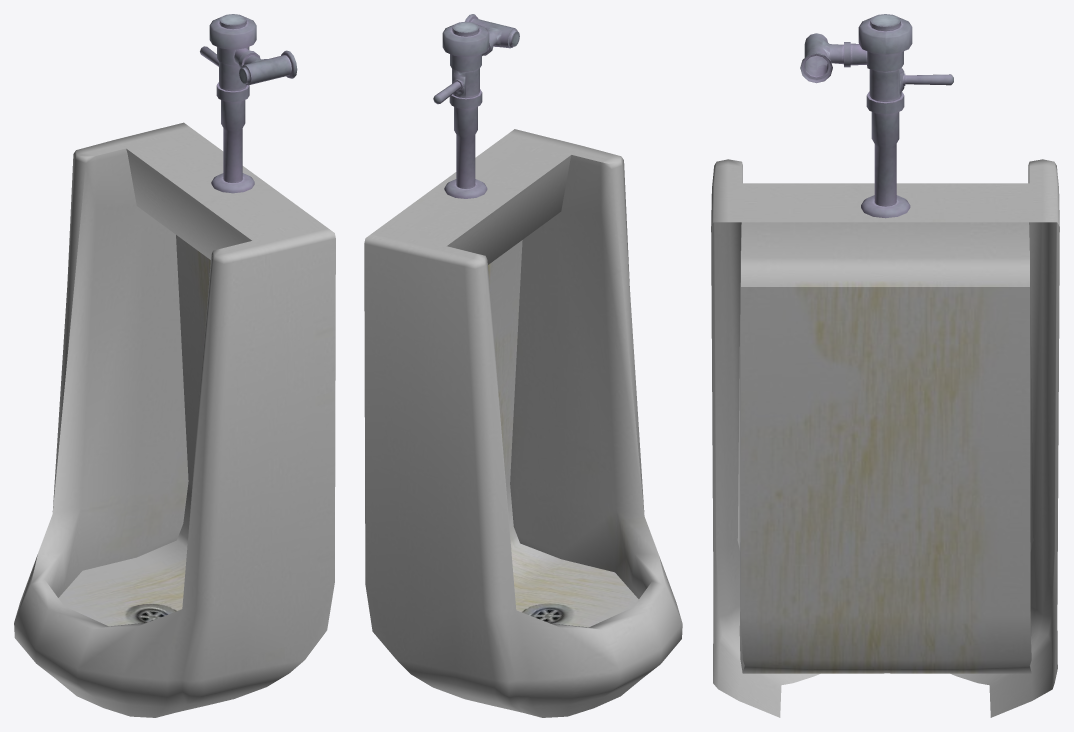
File: urinal.glb
3 renders of one model, left to right at view 1: azimuth 30°, elevation 25°; view 2: azimuth 150°, elevation 25°; view 3: azimuth 270°, elevation 25°, orthographic. The views are drawn at different scales.
Visible parts, largest first — view 1: Urinal; view 2: Urinal; view 3: Urinal.
Part boxes in pixels (x1=…): Urinal: x1=14, y1=14, x2=335, y2=717; Urinal: x1=364, y1=14, x2=682, y2=717; Urinal: x1=711, y1=14, x2=1059, y2=717.
Bounding box in the file's own units: 0.3263 × 0.891 × 0.3856.
2 materials, 2 textured.
